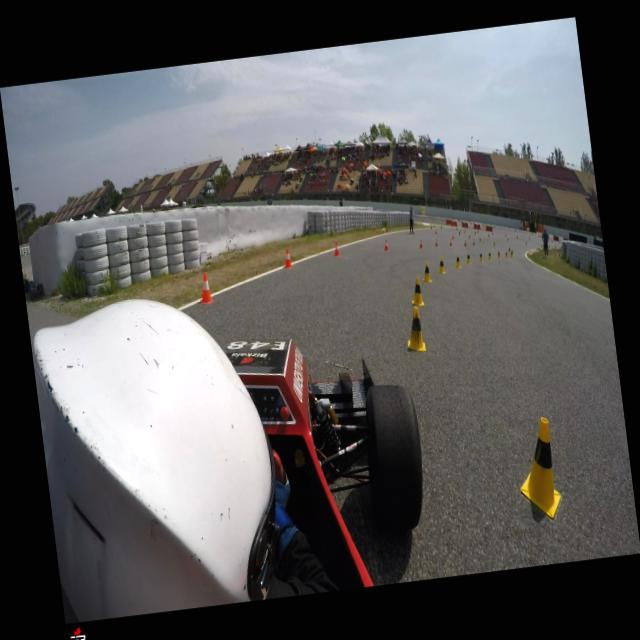orange_cone: (196, 272, 214, 303), (282, 248, 292, 268), (332, 240, 340, 256), (382, 240, 388, 250), (462, 239, 467, 247), (418, 239, 422, 248), (448, 238, 452, 246), (434, 238, 438, 246), (385, 226, 388, 232), (434, 228, 437, 234), (472, 238, 474, 246), (452, 233, 454, 239), (373, 224, 375, 230)
yellow_cone: (511, 416, 564, 522), (402, 305, 427, 353), (408, 276, 424, 307), (421, 261, 432, 282), (436, 256, 445, 274), (453, 254, 461, 268), (464, 253, 470, 264), (478, 252, 483, 262), (486, 252, 492, 260), (496, 250, 500, 258), (504, 251, 508, 258), (492, 240, 496, 247), (478, 236, 481, 243), (510, 250, 512, 258), (511, 248, 513, 256), (487, 233, 490, 238), (458, 230, 460, 237), (508, 246, 510, 252), (474, 230, 476, 236), (468, 234, 470, 239), (463, 230, 465, 234)
